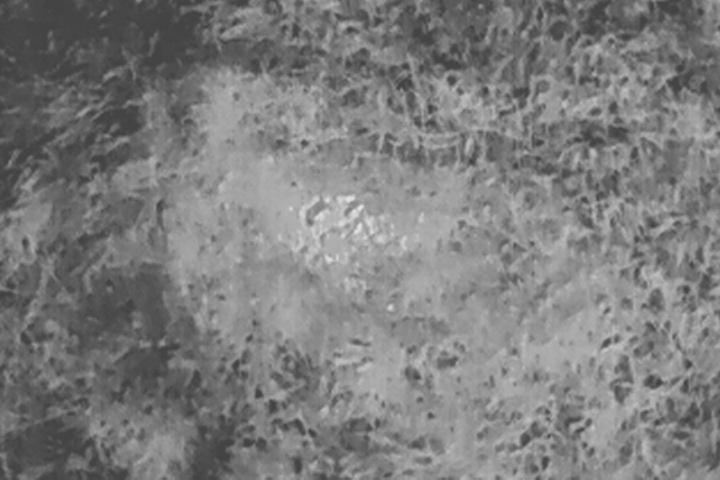landmine: (282, 191, 410, 277)
